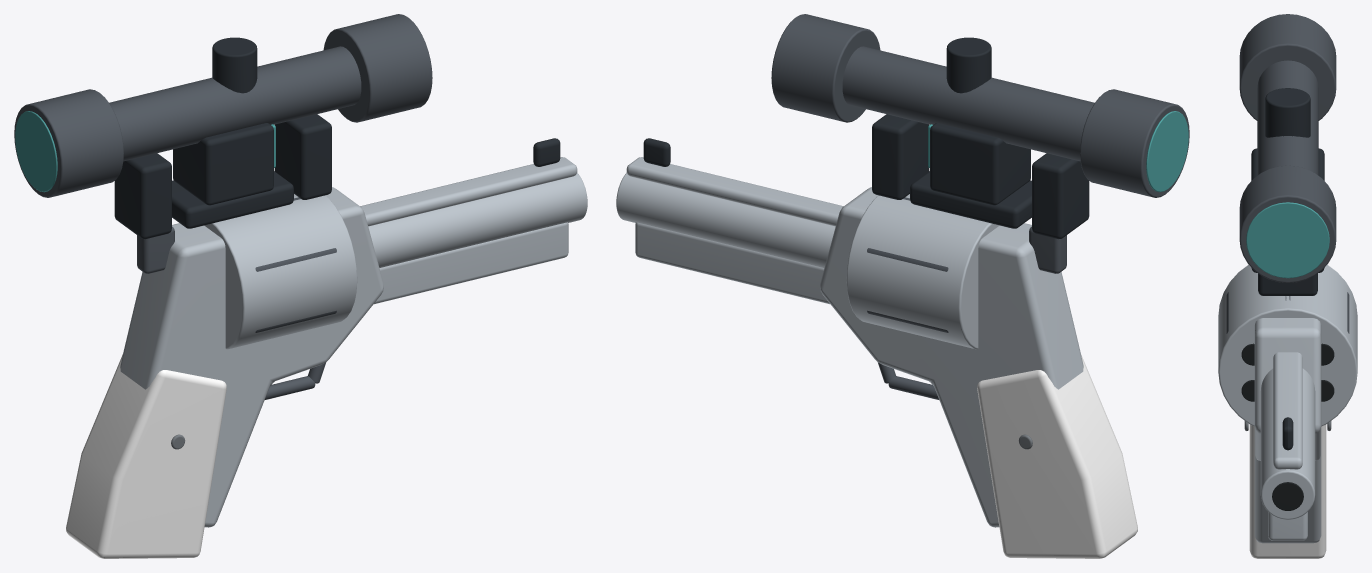
Rendered from revolver.glb.
The picture shows the model from 3 angles, left to right: view 1: azimuth 30°, elevation 25°; view 2: azimuth 150°, elevation 25°; view 3: azimuth 270°, elevation 25°; orthographic projection.
Parts seen in each view (by area): view 1: Revolver frame, Walnut grip, Cylinder, optic_scope_tube.005, Barrel.004, optic_scope_bell.011, optic_scope_bell.010, Underlug, optic_red_body.005, Top rib, optic_scope_mount.010, optic_scope_mount.011 (+4 smaller); view 2: Revolver frame, Walnut grip, Cylinder, optic_scope_tube.005, Barrel.004, optic_scope_bell.011, optic_scope_bell.010, Underlug, optic_red_body.005, Top rib, optic_scope_mount.010, optic_scope_mount.011 (+4 smaller); view 3: Cylinder, Revolver frame, optic_scope_bell.010, optic_scope_glass.011, optic_scope_bell.011, Barrel.004, optic_scope_tube.005, Top rib, Walnut grip, optic_scope_turret.005, optic_scope_mount.011, Underlug (+7 smaller).
Boxes of the visible parts, x1=… form: Revolver frame: x1=120, y1=187, x2=383, y2=527; Walnut grip: x1=66, y1=354, x2=226, y2=558; Cylinder: x1=204, y1=194, x2=357, y2=349; optic_scope_tube.005: x1=109, y1=46, x2=361, y2=161; Barrel.004: x1=368, y1=172, x2=587, y2=267; optic_scope_bell.011: x1=323, y1=14, x2=432, y2=122; optic_scope_bell.010: x1=14, y1=89, x2=123, y2=197; Underlug: x1=374, y1=222, x2=568, y2=304; optic_red_body.005: x1=173, y1=123, x2=273, y2=205; Top rib: x1=360, y1=157, x2=577, y2=226; optic_scope_mount.010: x1=114, y1=153, x2=171, y2=239; optic_scope_mount.011: x1=274, y1=114, x2=331, y2=199; Revolver frame: x1=820, y1=187, x2=1083, y2=527; Walnut grip: x1=977, y1=354, x2=1137, y2=558; Cylinder: x1=846, y1=194, x2=999, y2=349; optic_scope_tube.005: x1=842, y1=46, x2=1094, y2=161; Barrel.004: x1=616, y1=172, x2=835, y2=267; optic_scope_bell.011: x1=771, y1=14, x2=880, y2=122; optic_scope_bell.010: x1=1080, y1=89, x2=1189, y2=197; Underlug: x1=635, y1=222, x2=829, y2=304; optic_red_body.005: x1=930, y1=123, x2=1030, y2=205; Top rib: x1=626, y1=157, x2=843, y2=226; optic_scope_mount.010: x1=1032, y1=153, x2=1089, y2=239; optic_scope_mount.011: x1=872, y1=114, x2=929, y2=199; Cylinder: x1=1218, y1=264, x2=1357, y2=426; Revolver frame: x1=1254, y1=318, x2=1321, y2=543; optic_scope_bell.010: x1=1239, y1=14, x2=1336, y2=120; optic_scope_glass.011: x1=1246, y1=202, x2=1329, y2=278; optic_scope_bell.011: x1=1239, y1=165, x2=1336, y2=282; Barrel.004: x1=1260, y1=368, x2=1315, y2=519; optic_scope_tube.005: x1=1257, y1=60, x2=1318, y2=175; Top rib: x1=1273, y1=352, x2=1302, y2=469; Walnut grip: x1=1249, y1=424, x2=1326, y2=558; optic_scope_turret.005: x1=1265, y1=88, x2=1310, y2=137; optic_scope_mount.011: x1=1258, y1=273, x2=1317, y2=295; Underlug: x1=1268, y1=512, x2=1307, y2=540.
Bounding box in the file's own units: 0.948 × 0.8124 × 0.21.
